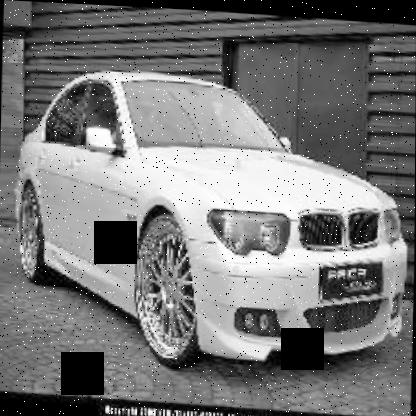not_emergency: (1, 39, 393, 387)
